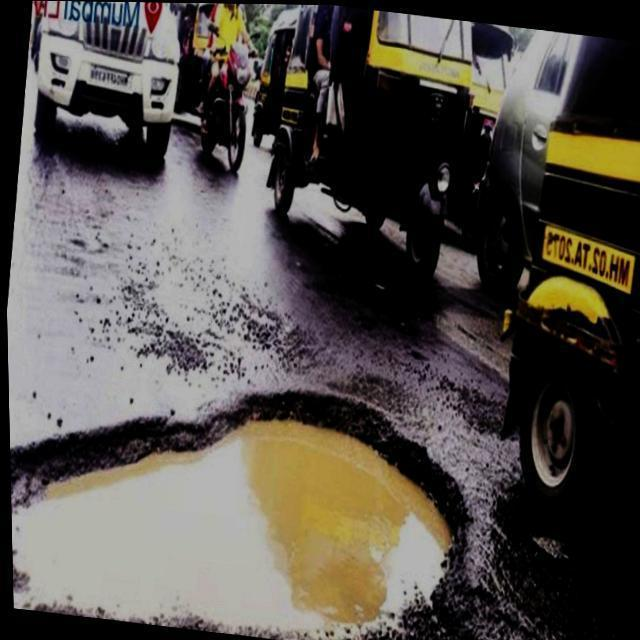Pothole: (8, 397, 460, 640)
